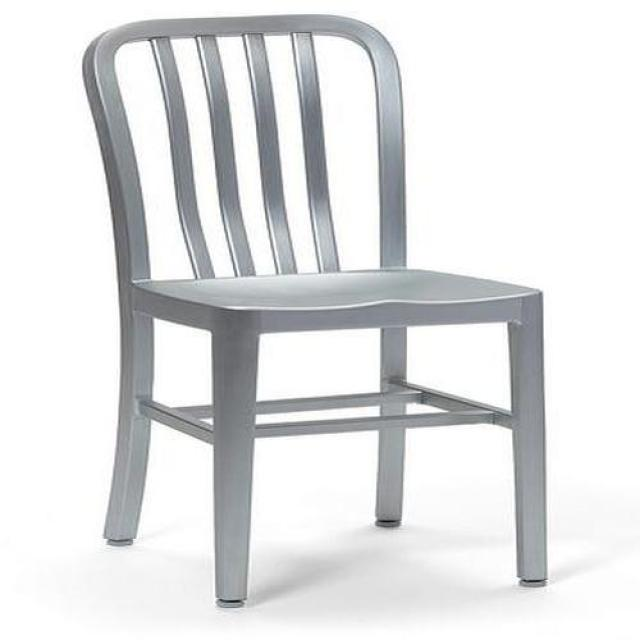chair: (83, 14, 549, 609)
